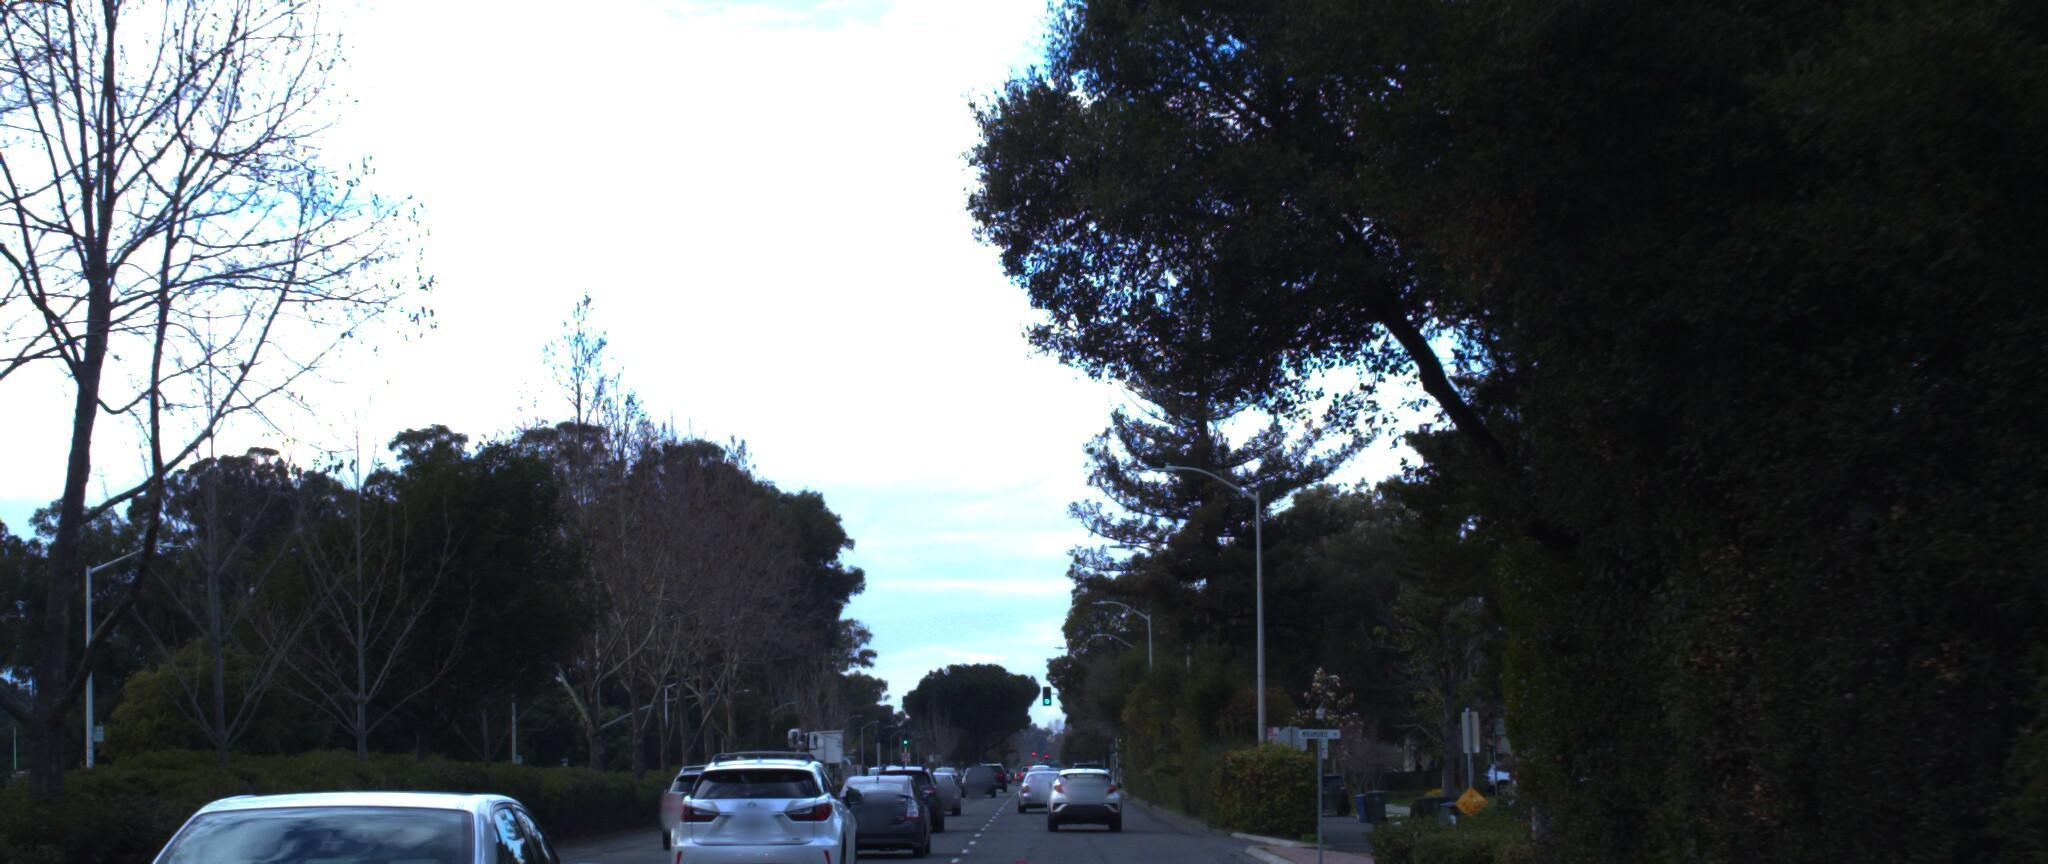car: (67, 700, 643, 864), (657, 737, 857, 864), (815, 762, 933, 855), (1042, 749, 1127, 822)
